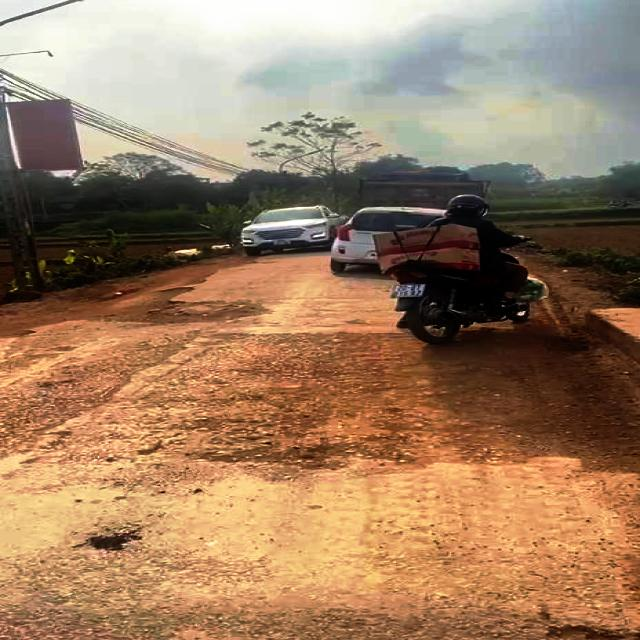pothole: (61, 284, 269, 330)
